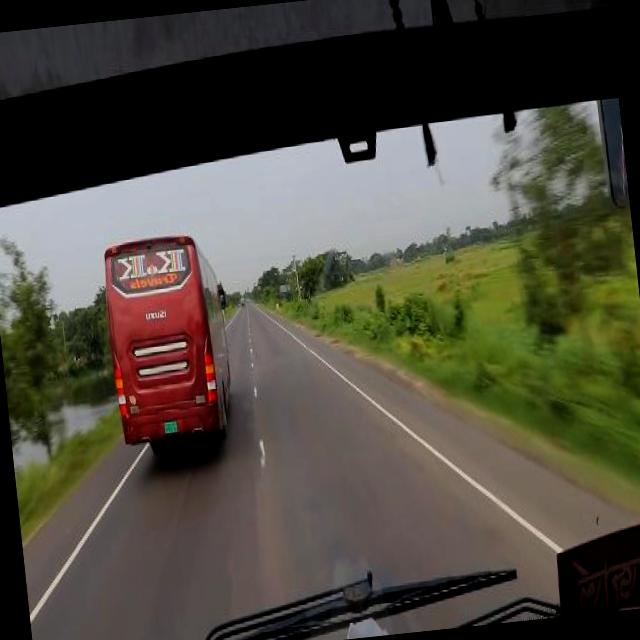bus: (100, 226, 240, 455)
